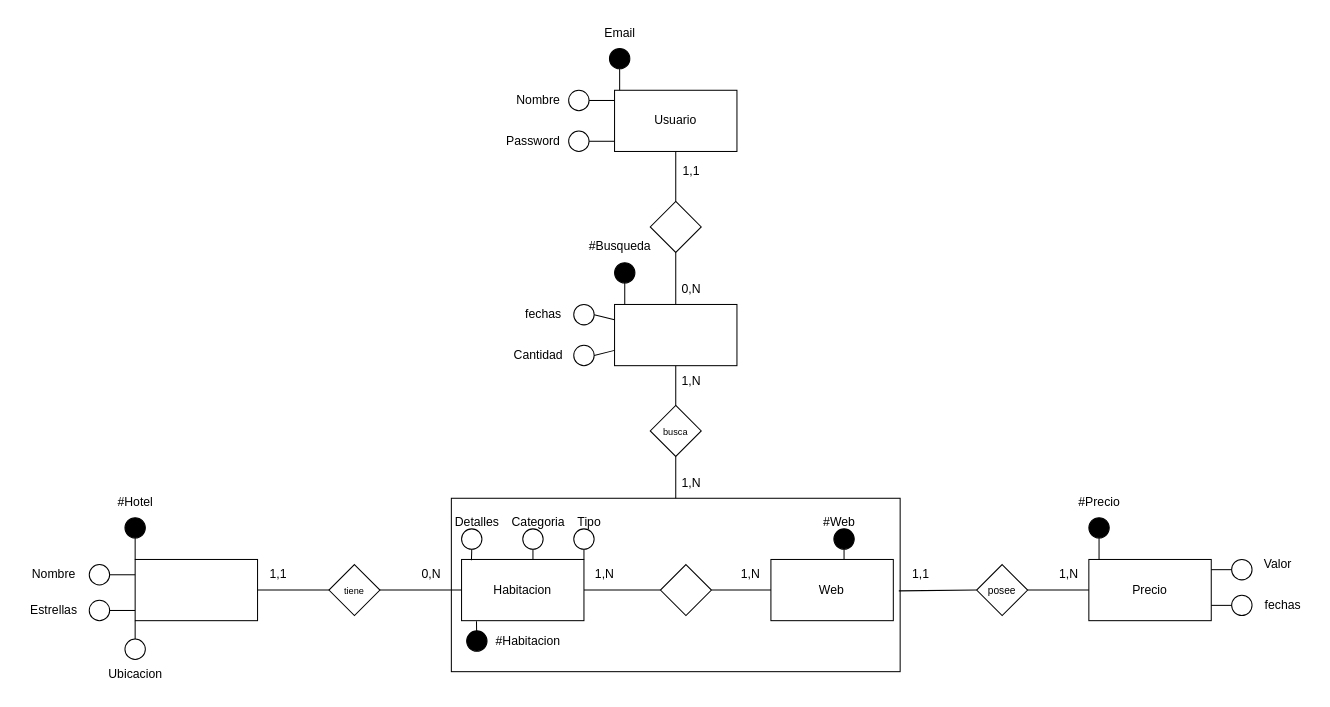
Some shapes in this 1330 by 707 pixel diagram are drawn without their labels. Each missing label, with the centre of its shape:
"Busqueda" belongs at (x=675, y=334).
"encuentra" belongs at (x=685, y=590).
"Hotel" belongs at (x=196, y=589).
"Realiza" belongs at (x=675, y=226).
